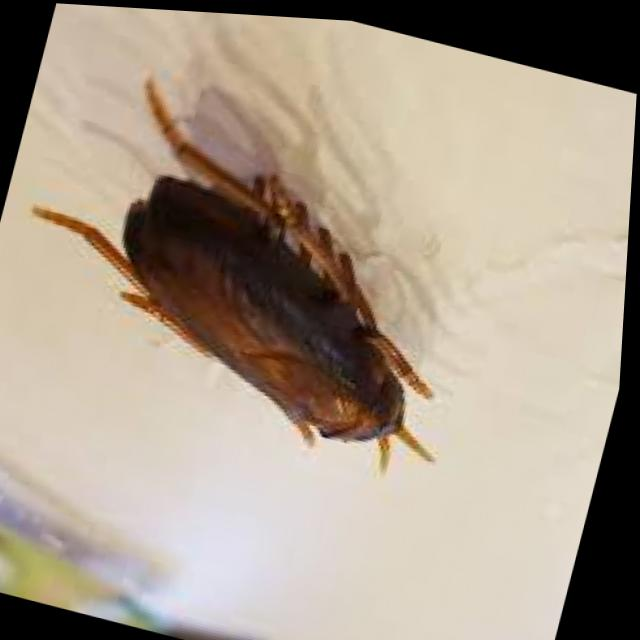Cockroach: (0, 59, 522, 512)
